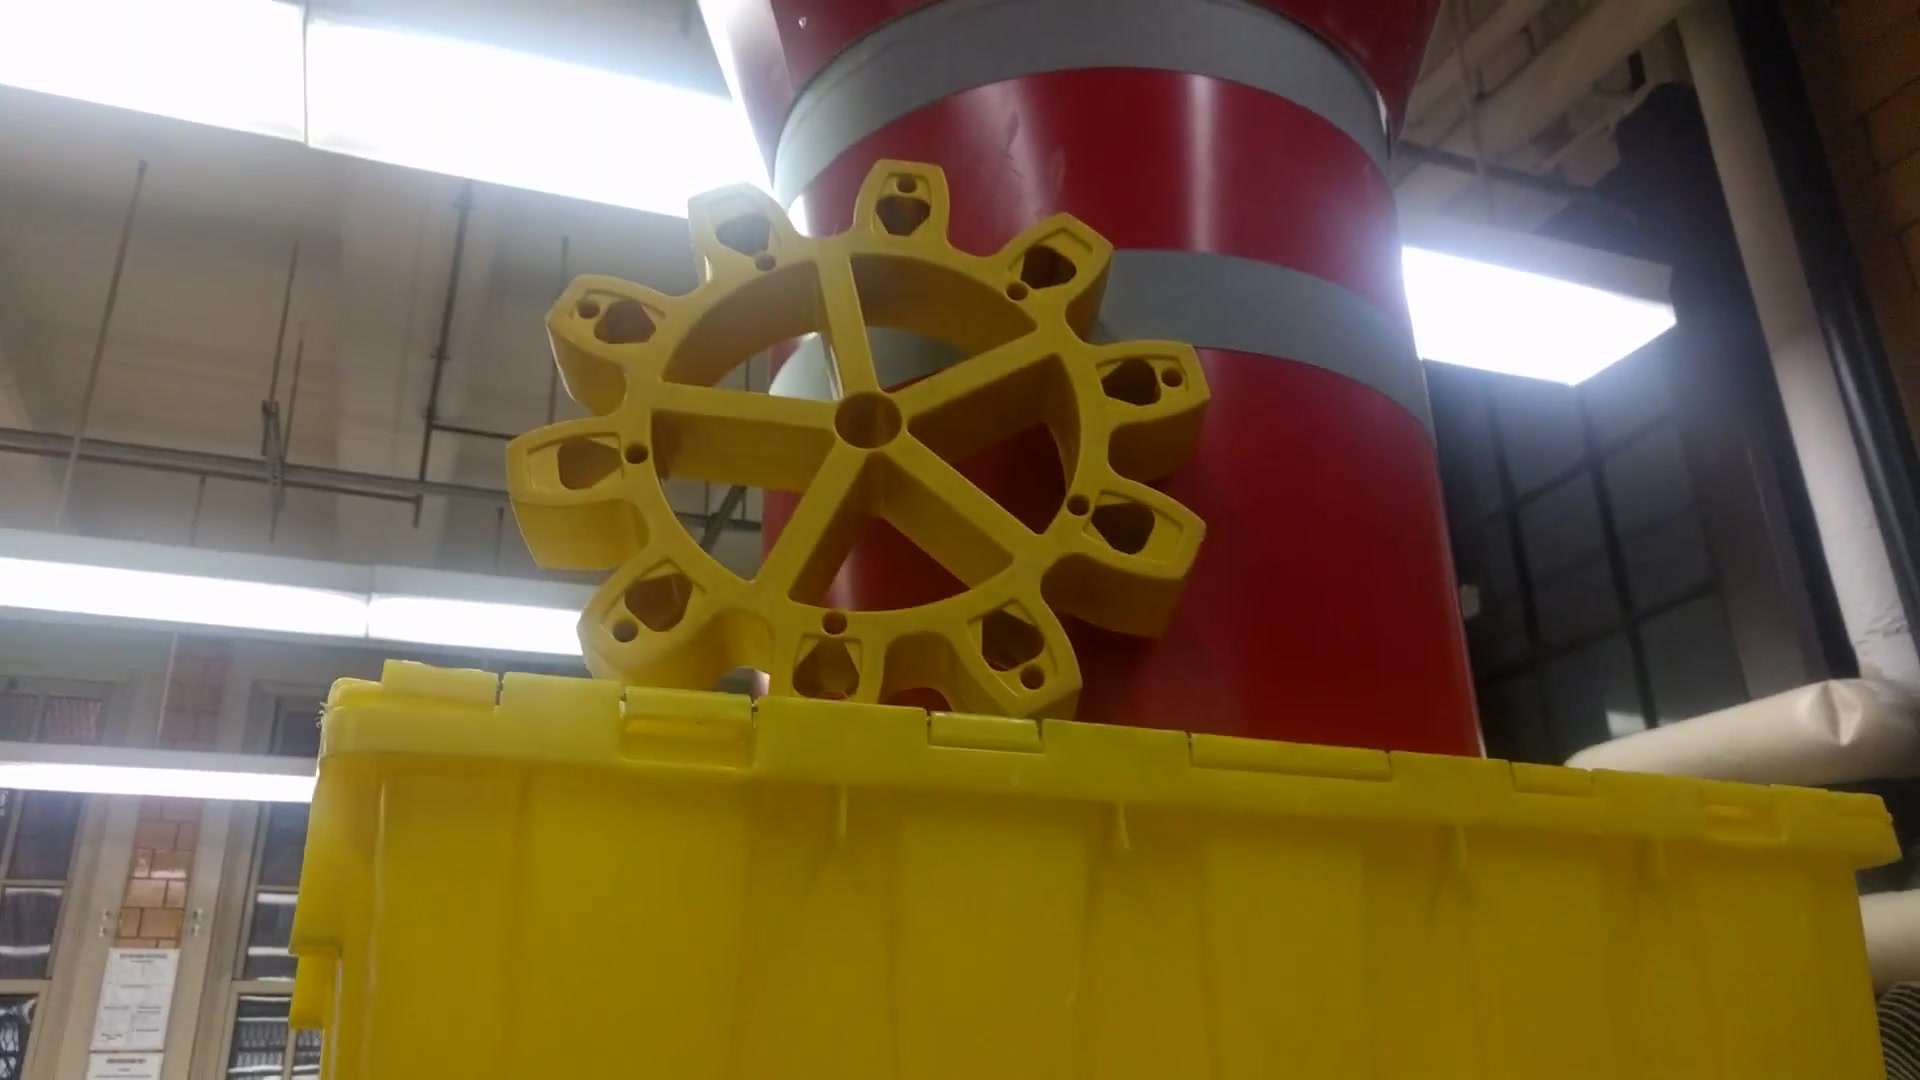gear: (498, 156, 1230, 756)
